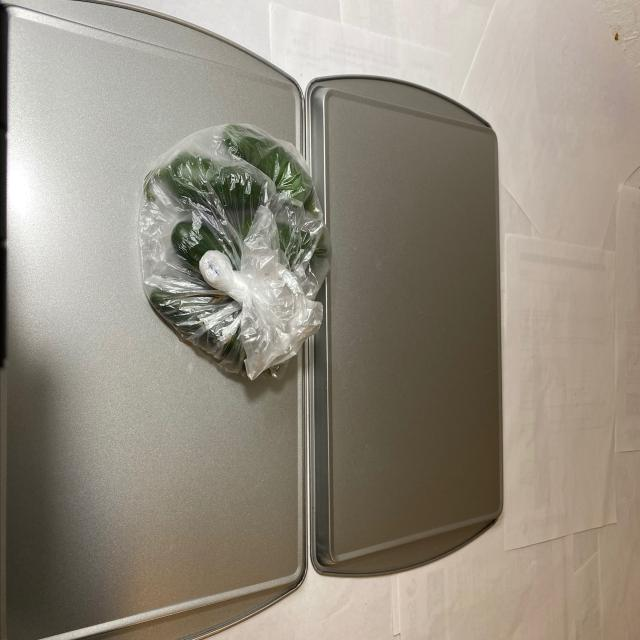chilli: (144, 119, 329, 369)
